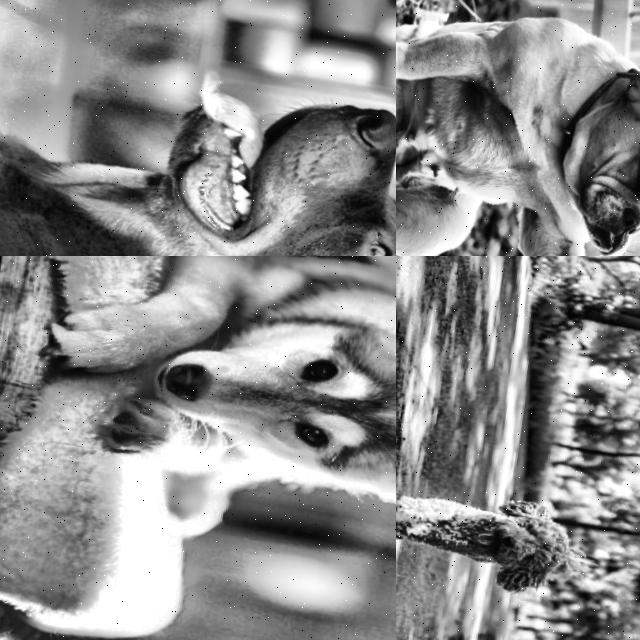bulldog: (530, 44, 640, 256)
husky: (126, 262, 396, 561)
poodle: (457, 477, 607, 615)
rottweiler: (46, 14, 396, 256)
